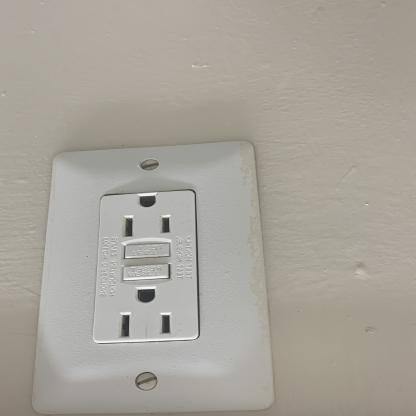OUTLET: (35, 145, 262, 414)
